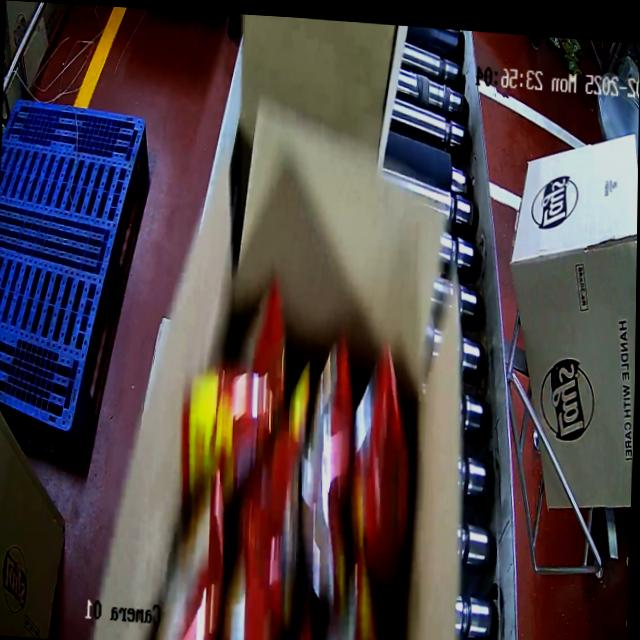MASALA: (158, 307, 418, 640)
